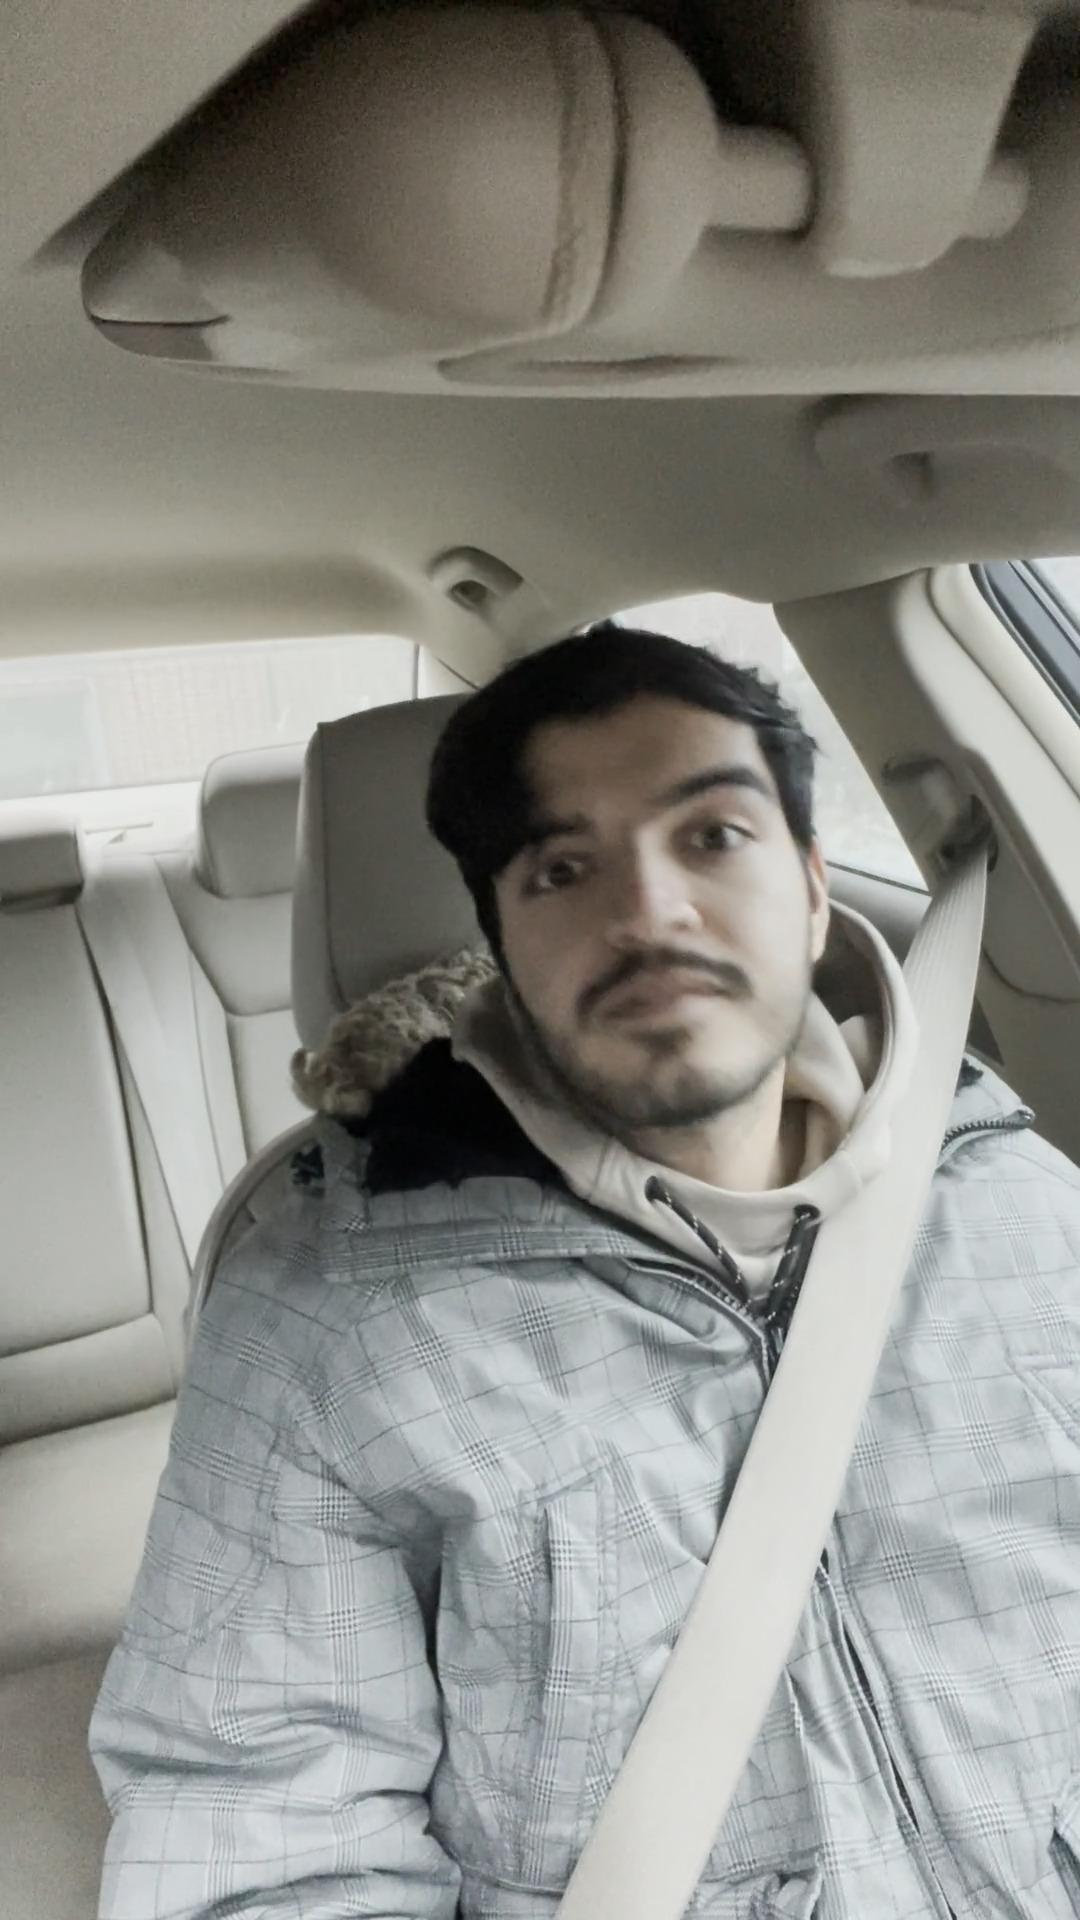seatbelt: (418, 1170, 1080, 1920)
